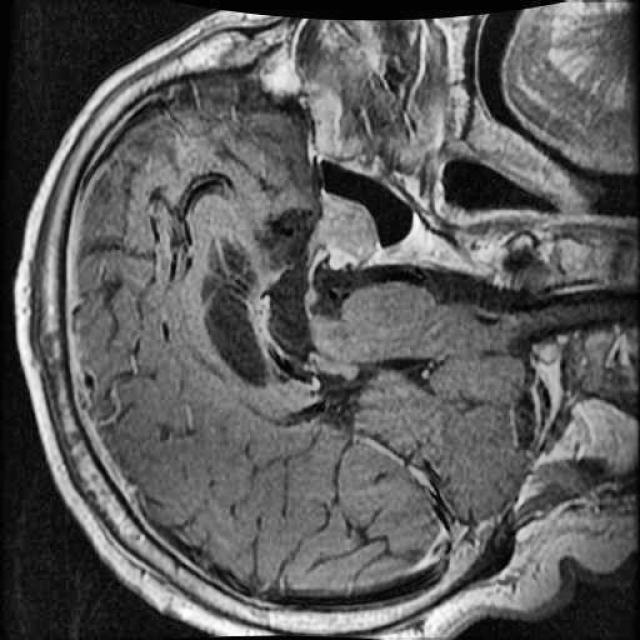Tumor: (298, 184, 389, 289)
